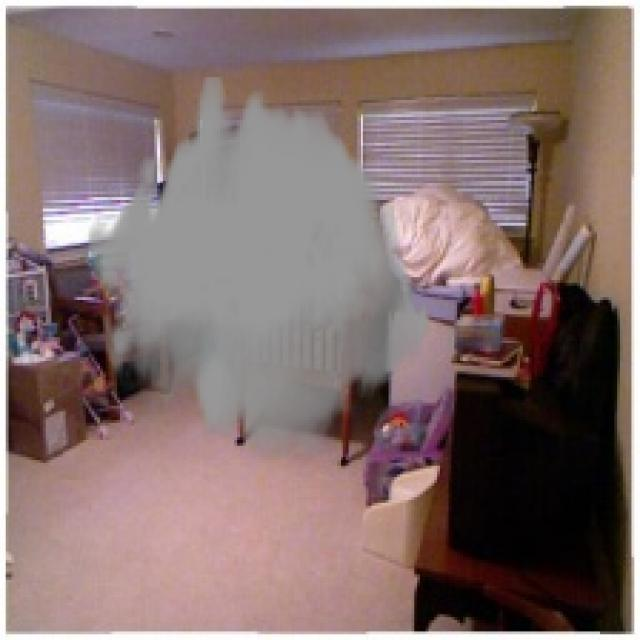Smoke: (86, 77, 432, 460)
